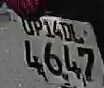1: (43, 19, 53, 39)
4: (22, 39, 43, 78), (62, 43, 81, 80), (52, 21, 64, 40)
6: (44, 41, 63, 76)
7: (78, 45, 101, 82)
D: (59, 21, 72, 43)
L: (70, 24, 85, 44)
P: (34, 17, 44, 37)
U: (19, 17, 35, 37)
